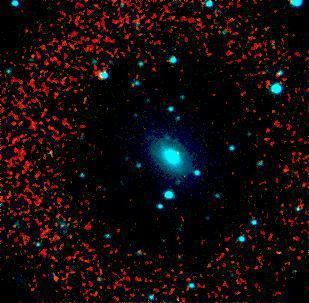star: (162, 137, 192, 167)
